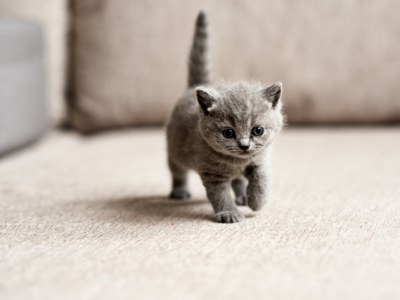cat: (196, 87, 287, 153)
